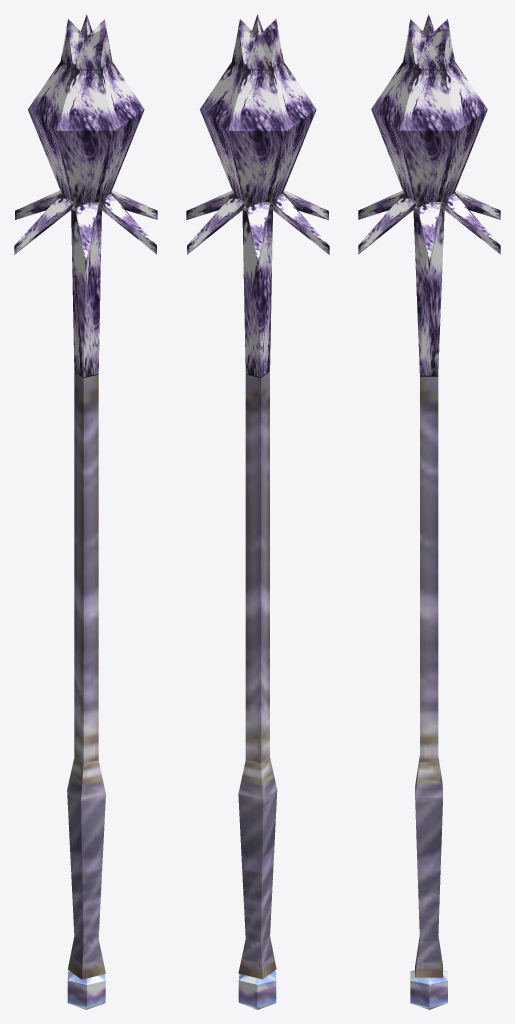
The model's file is wavemaster01_6.obj.
The picture shows the model from 3 angles, left to right: view 1: azimuth 30°, elevation 25°; view 2: azimuth 150°, elevation 25°; view 3: azimuth 270°, elevation 25°; orthographic projection.
Visible parts, largest first — view 1: wavemaster01_6; view 2: wavemaster01_6; view 3: wavemaster01_6.
Part boxes in pixels (x1,y1,x2,y2): wavemaster01_6: (14,14,157,1009); wavemaster01_6: (186,14,329,1009); wavemaster01_6: (358,14,500,1009).
Size of the model in its own units: 0.2587 by 1.7 by 0.2224.
